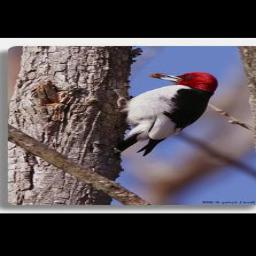Woodpecker: (113, 71, 219, 155)
